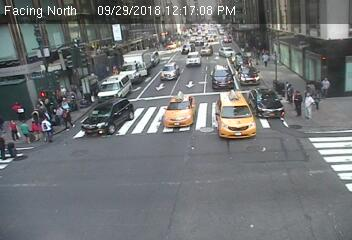car: (213, 89, 256, 138), (82, 98, 136, 135), (250, 89, 283, 122), (166, 93, 195, 129), (122, 50, 153, 82), (97, 73, 129, 102), (212, 63, 235, 90), (236, 67, 264, 87), (161, 61, 180, 83), (187, 51, 202, 68), (217, 47, 236, 58), (149, 50, 160, 67), (179, 43, 195, 54), (201, 43, 215, 55), (223, 34, 233, 46)
